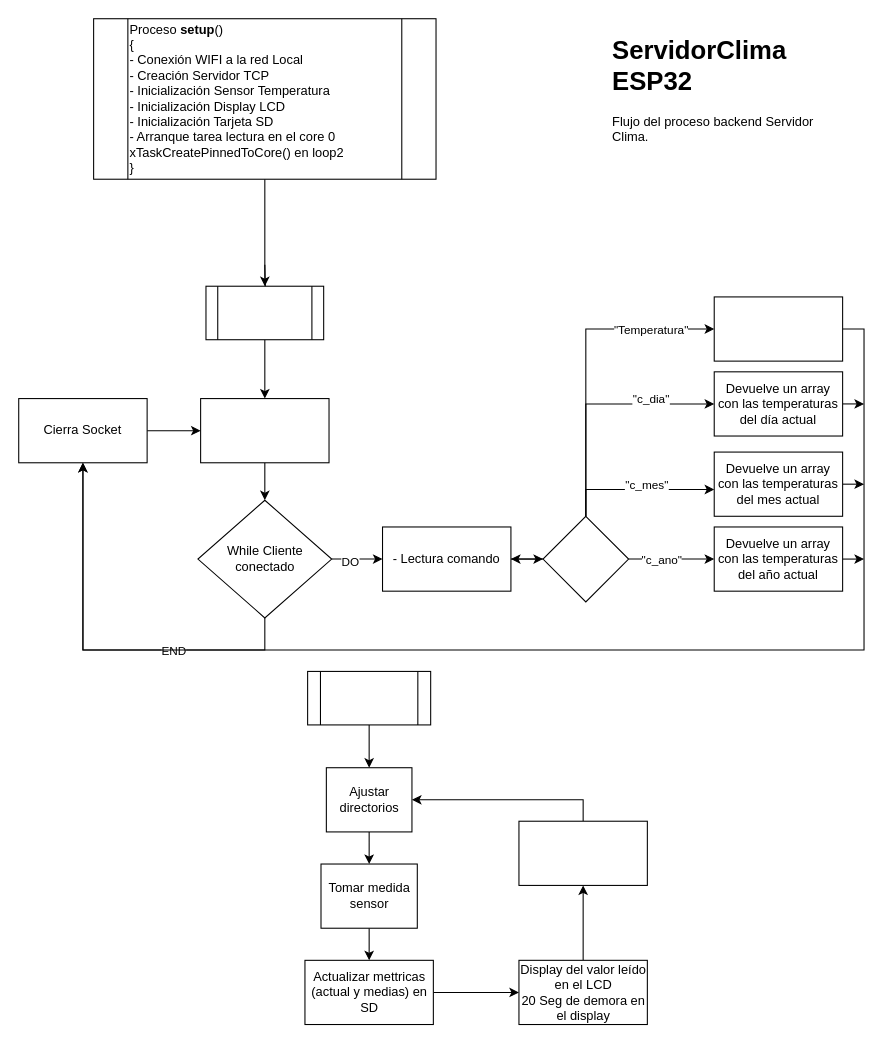
Image size: 891x1043. Some labels were removed from this diagram. Here are the shapes that lost their labels. From the top down, the centre of each, then its label:
point (264, 312): Proceso loop ()
point (778, 328): Devuelve un array con las temperaturas de la hora actual
point (264, 430): Instanciar Listener
point (585, 558): Evalúa
point (369, 697): Task t Proceso loop2 ()
point (582, 852): Delay 30 seg
